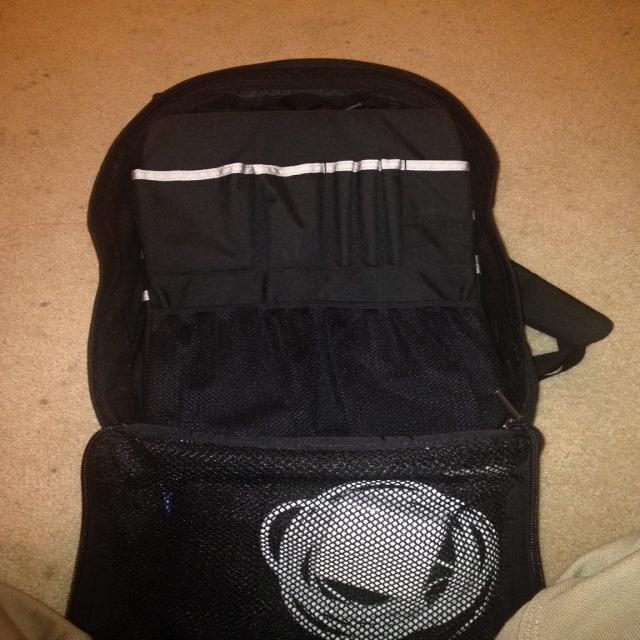backpack: (65, 63, 559, 639)
